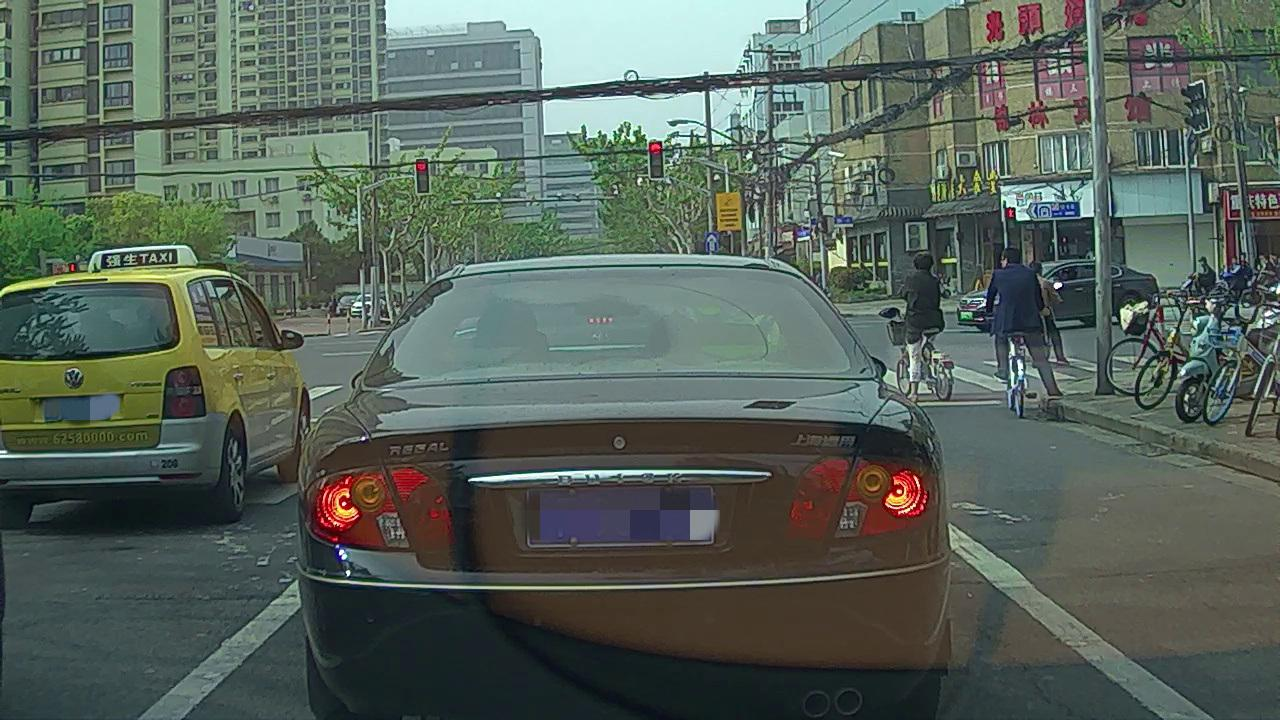traffic_light: (413, 157, 431, 195), (648, 141, 665, 179)
